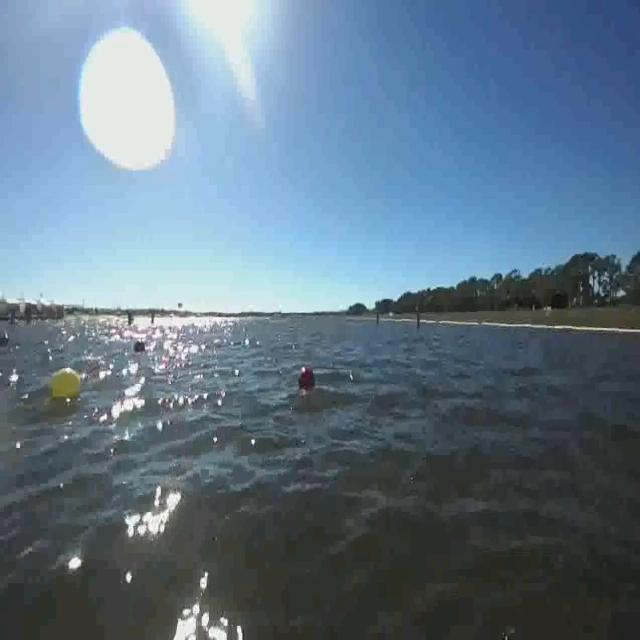red-buoy: (297, 362, 314, 391)
yellow-buoy: (48, 365, 84, 401)
